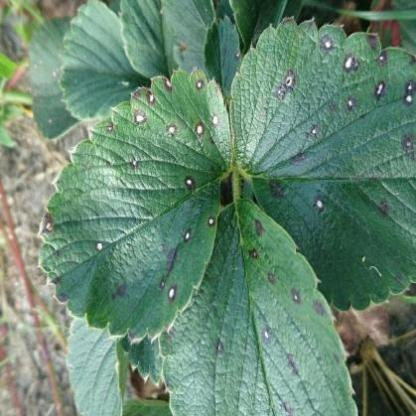Strawberry_Leaf_Spot: (229, 15, 415, 312), (36, 68, 236, 344), (157, 196, 360, 415), (202, 14, 242, 108)
